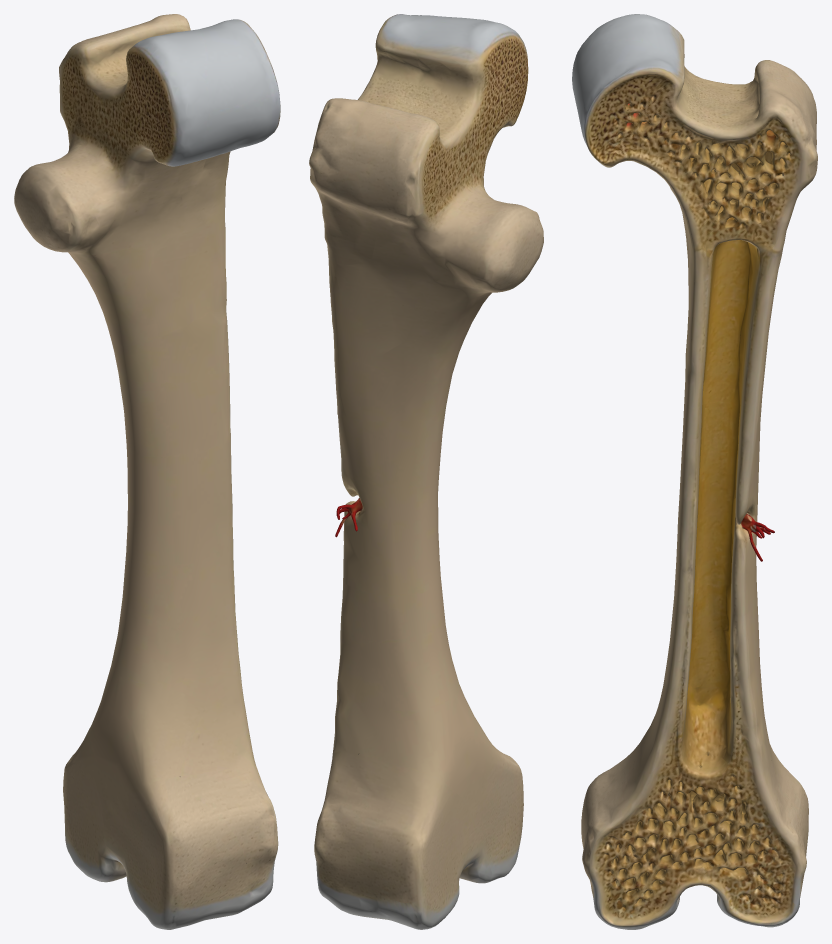
Rendered from long-bone.glb.
The picture shows the model from 3 angles, left to right: view 1: azimuth 30°, elevation 25°; view 2: azimuth 150°, elevation 25°; view 3: azimuth 270°, elevation 25°; orthographic projection. The views are drawn at different scales.
Parts seen in each view (by area): view 1: tripo_node_52855f88-6462-4fc8-84d6-59d8247d389f; view 2: tripo_node_52855f88-6462-4fc8-84d6-59d8247d389f; view 3: tripo_node_52855f88-6462-4fc8-84d6-59d8247d389f.
Part boxes in pixels (<box>): tripo_node_52855f88-6462-4fc8-84d6-59d8247d389f: <box>14,14,280,929</box>; tripo_node_52855f88-6462-4fc8-84d6-59d8247d389f: <box>309,14,543,929</box>; tripo_node_52855f88-6462-4fc8-84d6-59d8247d389f: <box>572,14,817,929</box>.
Size of the model in its own units: 0.217 by 0.9999 by 0.2536.
Materials: 1 (1 with a texture image).
